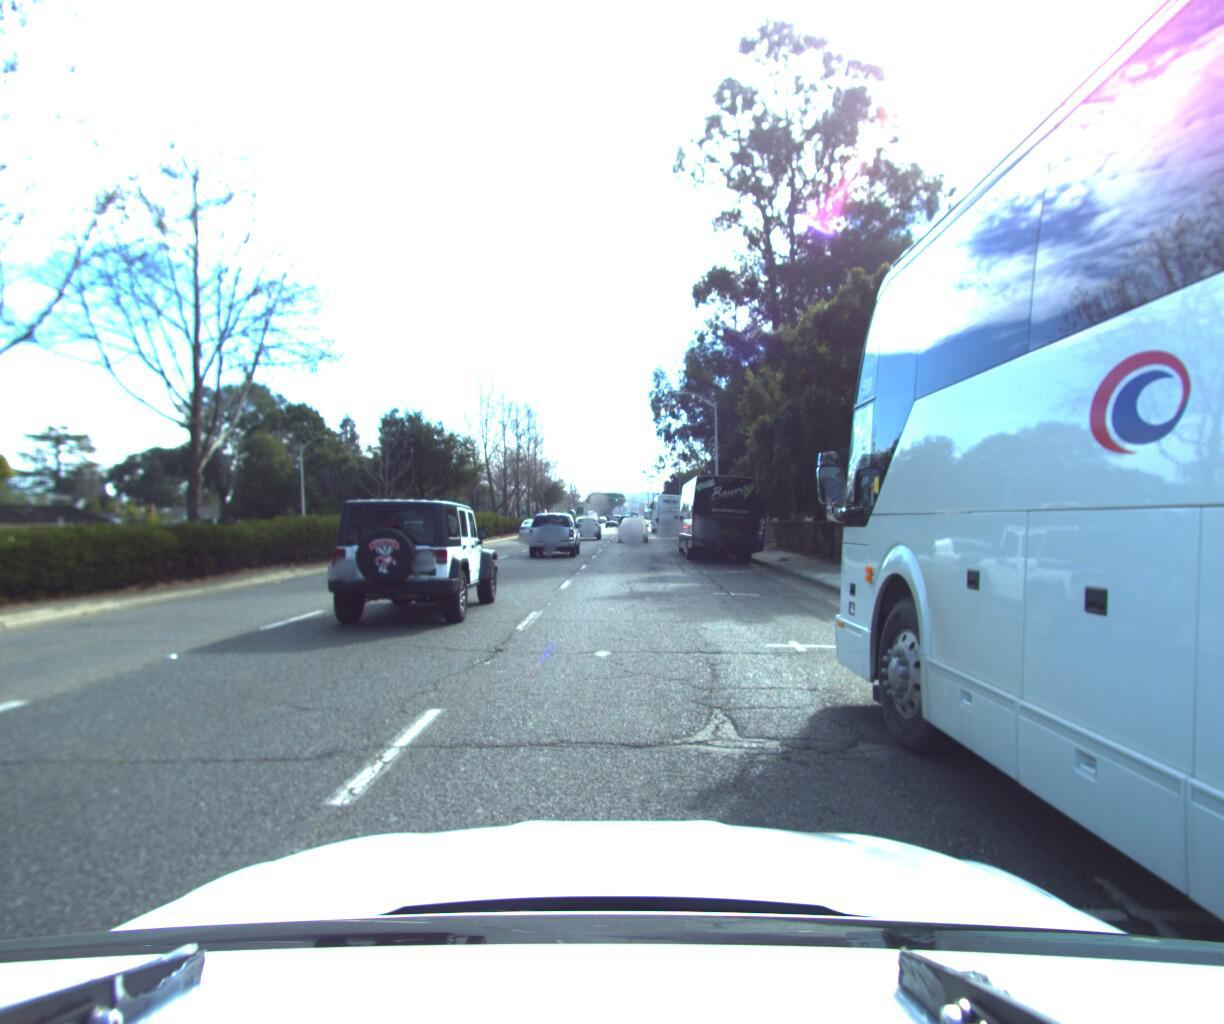bus: (669, 467, 769, 561), (646, 487, 687, 531)
car: (311, 491, 502, 627), (523, 505, 580, 557), (510, 516, 547, 539), (616, 513, 647, 538), (575, 511, 606, 536)
